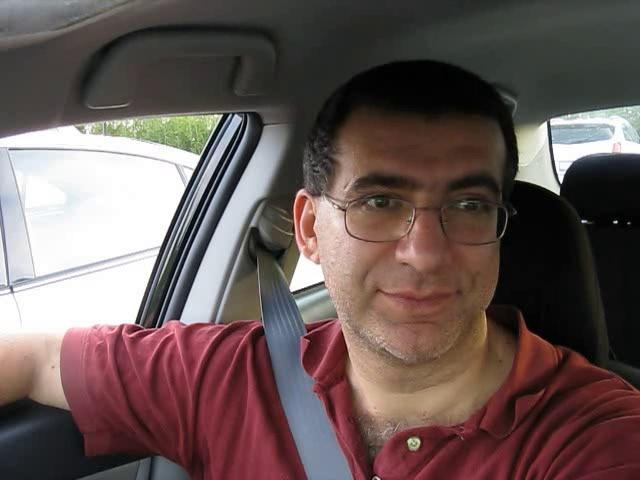no_yawn: (350, 271, 472, 326)
open_eyeL: (342, 186, 418, 230)
open_eyeR: (441, 191, 507, 223)
